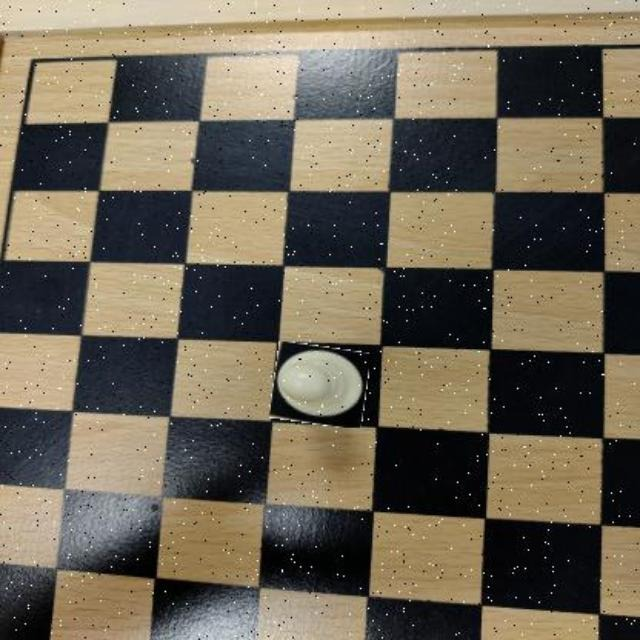white-pawn: (273, 345, 369, 425)
